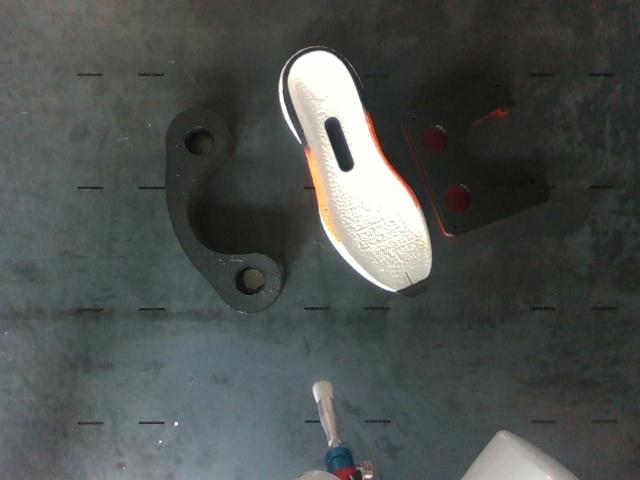shoes: (285, 47, 431, 298)
